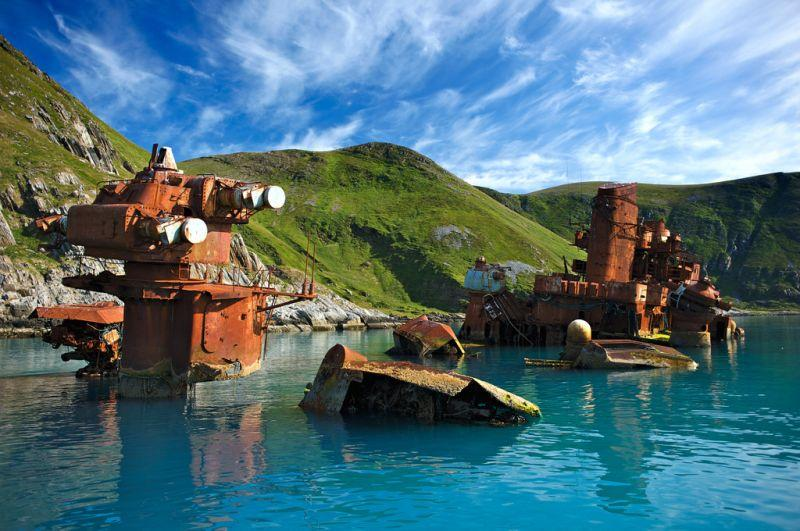rust: (490, 193, 659, 331), (70, 176, 273, 255), (113, 280, 277, 369), (383, 321, 452, 350)
